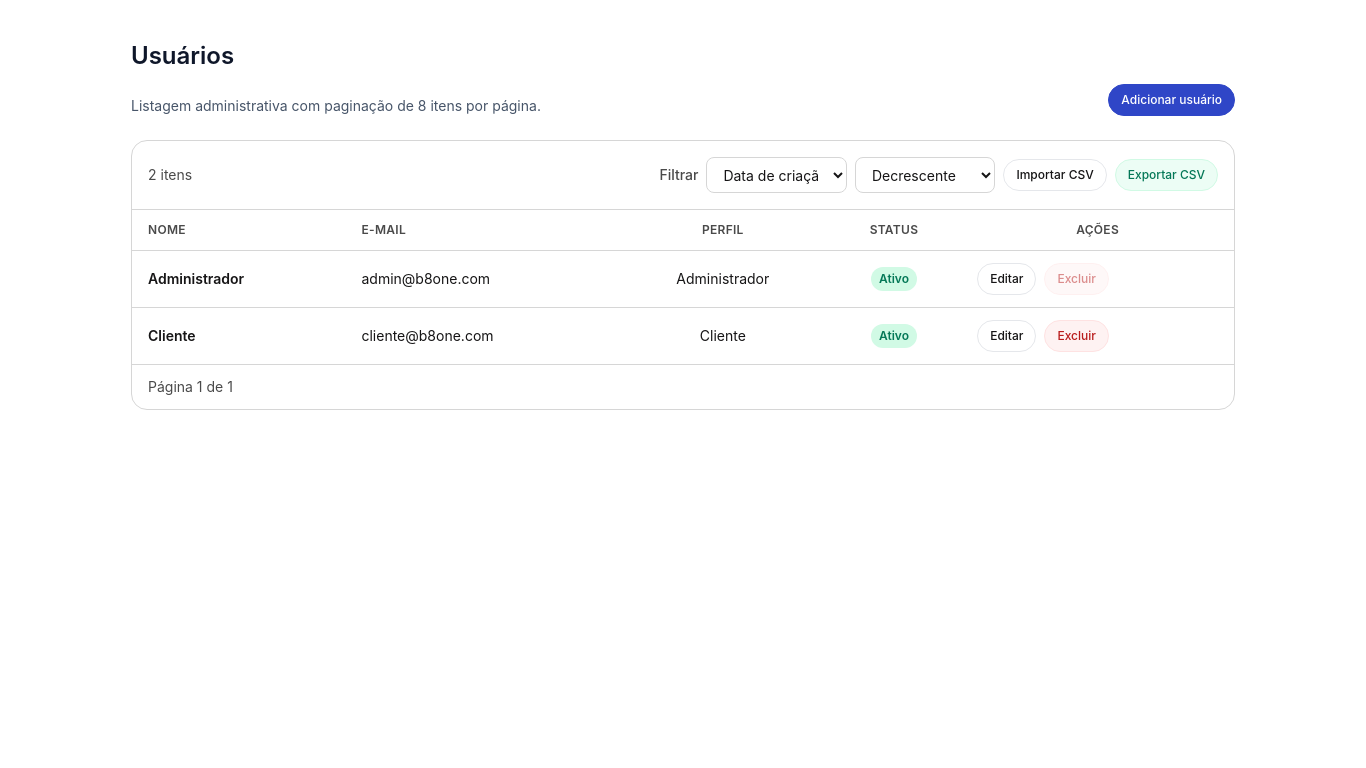
Test case: UsersListSection › should close user confirmation dialog on cancel
What coordinates should you click on to do the following:
click the button "Excluir" in the row of "cliente@b8one.com"
I would click on:
 (1077, 336)
Its box is 1044,320 -> 1109,352.
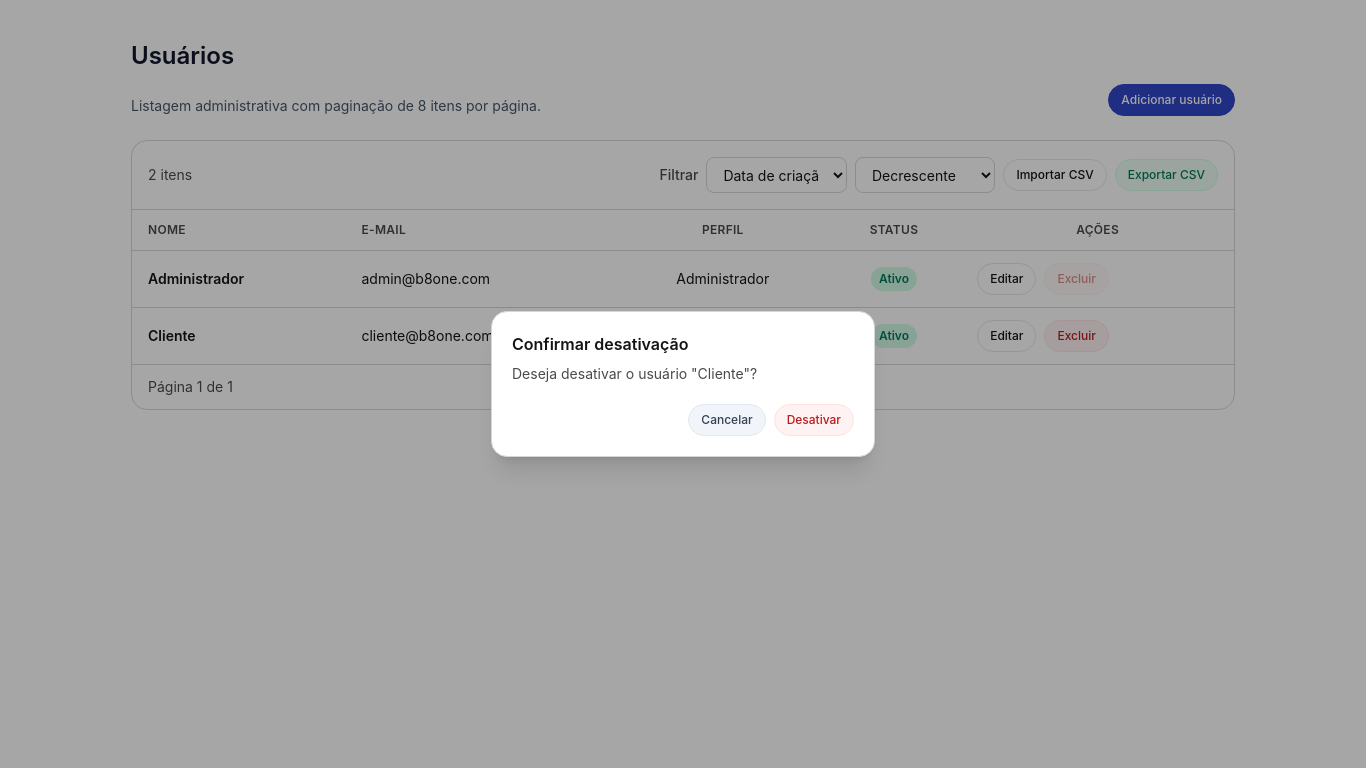
Now the dialog is shown, box 491,311 -> 875,457
What coordinates should you click on to do the following:
click the button "Cancelar"
I would click on:
 (727, 420)
Its box is 688,404 -> 766,436.
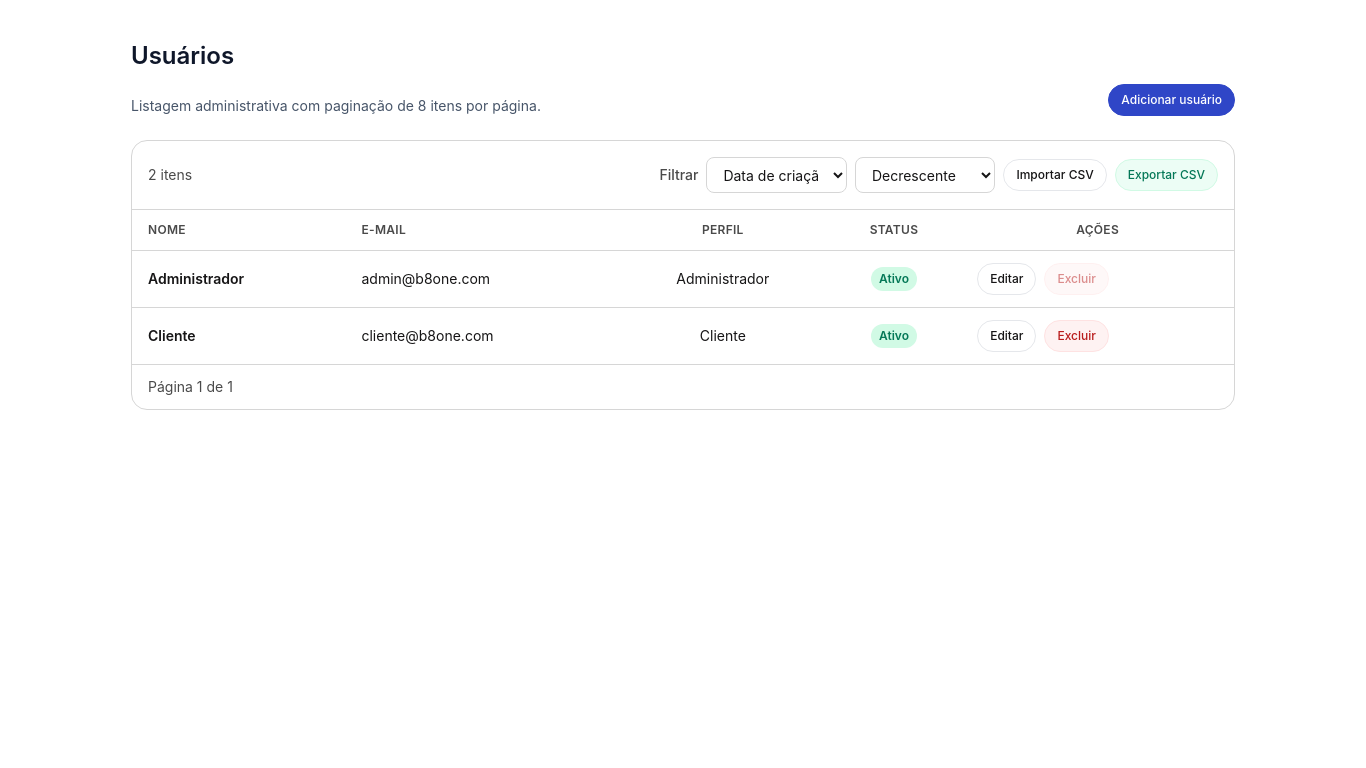
Now the dialog is gone
